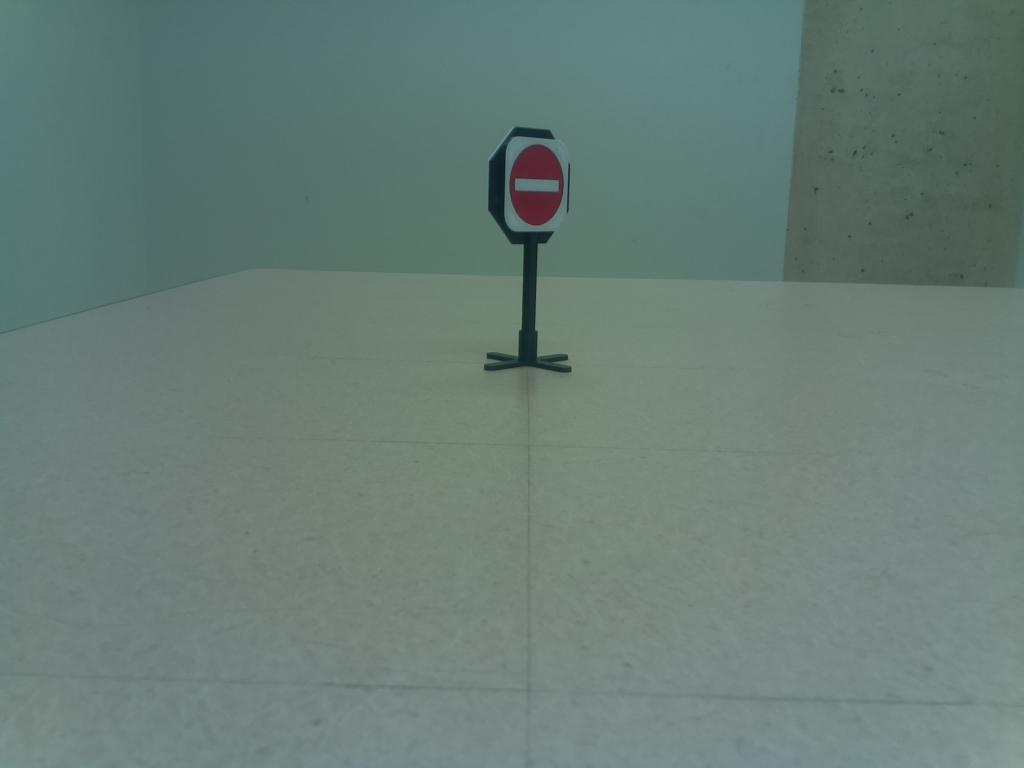sign_noentry: (482, 117, 580, 251)
